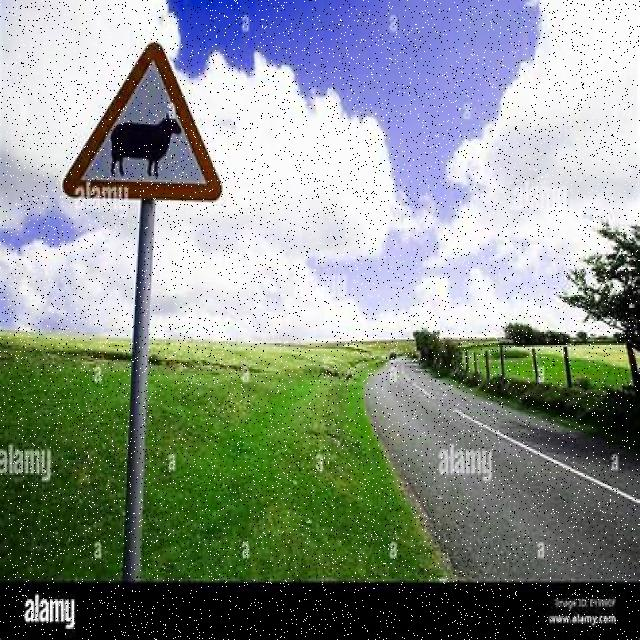cattle: (46, 38, 229, 224)
